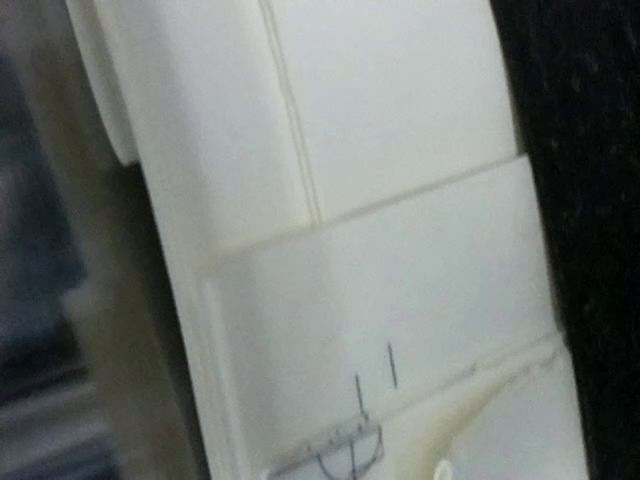not_sure: (272, 374, 388, 480)
